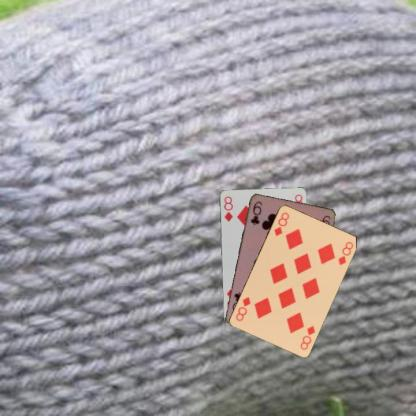6c: (248, 198, 263, 226)
8d: (272, 209, 290, 238), (298, 323, 316, 351), (221, 194, 234, 223)
